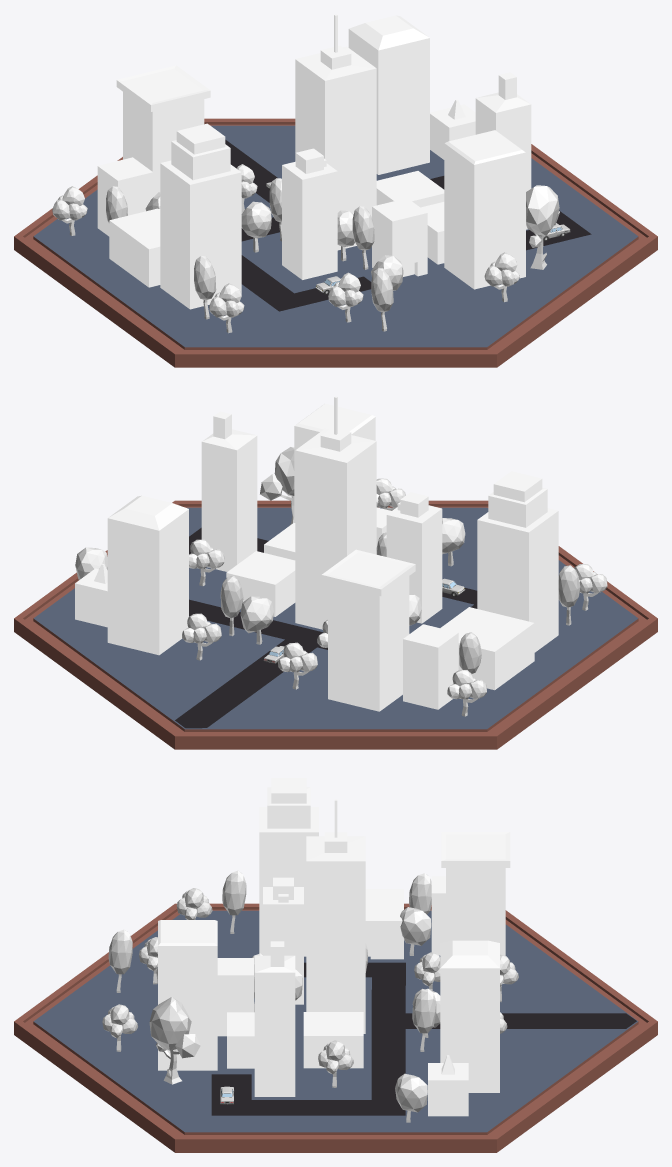
File: Hexagon_City.glb
3 views of the same model, one above another, from view 1: azimuth 30°, elevation 25°; view 2: azimuth 150°, elevation 25°; view 3: azimuth 270°, elevation 25° (orthographic).
Parts seen in each view (by area): view 1: Cube.005, Circle, Plane, Tree 2.003, Tree 5.004, Tree 6.002, Tree 6.001, Tree 6.007, Tree 6.008, Tree 4.001, Tree 4.006, Tree 4.004 (+4 smaller); view 2: Cube.005, Circle, Plane, Tree 2.003, Tree 5.001, Tree 6.004, Tree 6.005, Tree 6.007, Tree 6.003, Tree 4.003, Tree 4.006, Tree 6.008 (+4 smaller); view 3: Cube.005, Circle, Plane, Tree 2.003, Tree 5.002, Tree 5.003, Tree 4.004, Tree 4.006, Tree 4.003, Tree 6.002, Tree 6.003, Tree 6.008 (+3 smaller).
Part boxes in pixels (x1,y1,x2,y2): Cube.005: (97,14,531,309); Circle: (14,118,657,367); Plane: (225,139,591,311); Tree 2.003: (526,185,559,269); Tree 5.004: (241,201,271,252); Tree 6.002: (484,252,519,302); Tree 6.001: (328,272,363,322); Tree 6.007: (52,186,87,235); Tree 6.008: (209,283,244,333); Tree 4.001: (352,206,374,269); Tree 4.006: (194,256,216,319); Tree 4.004: (371,268,393,331); Cube.005: (75,396,558,711); Circle: (14,500,657,749); Plane: (175,527,477,728); Tree 2.003: (260,447,294,525); Tree 5.001: (240,596,273,644); Tree 6.004: (182,613,221,660); Tree 6.005: (278,642,317,689); Tree 6.007: (447,670,486,716); Tree 6.003: (189,539,224,586); Tree 4.003: (220,575,243,636); Tree 4.006: (558,565,580,625); Tree 6.008: (574,564,607,610); Cube.005: (158,778,510,1116); Circle: (14,903,657,1152); Plane: (211,962,636,1115); Tree 2.003: (149,997,200,1084); Tree 5.002: (395,1073,427,1122); Tree 5.003: (400,907,431,955); Tree 4.004: (108,929,132,992); Tree 4.006: (222,870,246,933); Tree 4.003: (412,988,436,1051); Tree 6.002: (102,1004,137,1051); Tree 6.003: (318,1040,353,1087); Tree 6.008: (176,888,212,919).
Bounding box in the file's own units: 30.17 × 14.02 × 34.84.
Materials: 11 (1 with a texture image).
